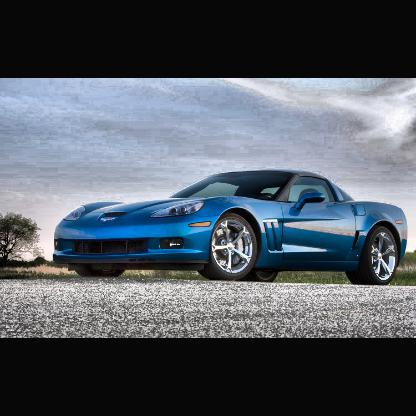Chevrolet Corvette Convertible 2012: (53, 168, 409, 286)
